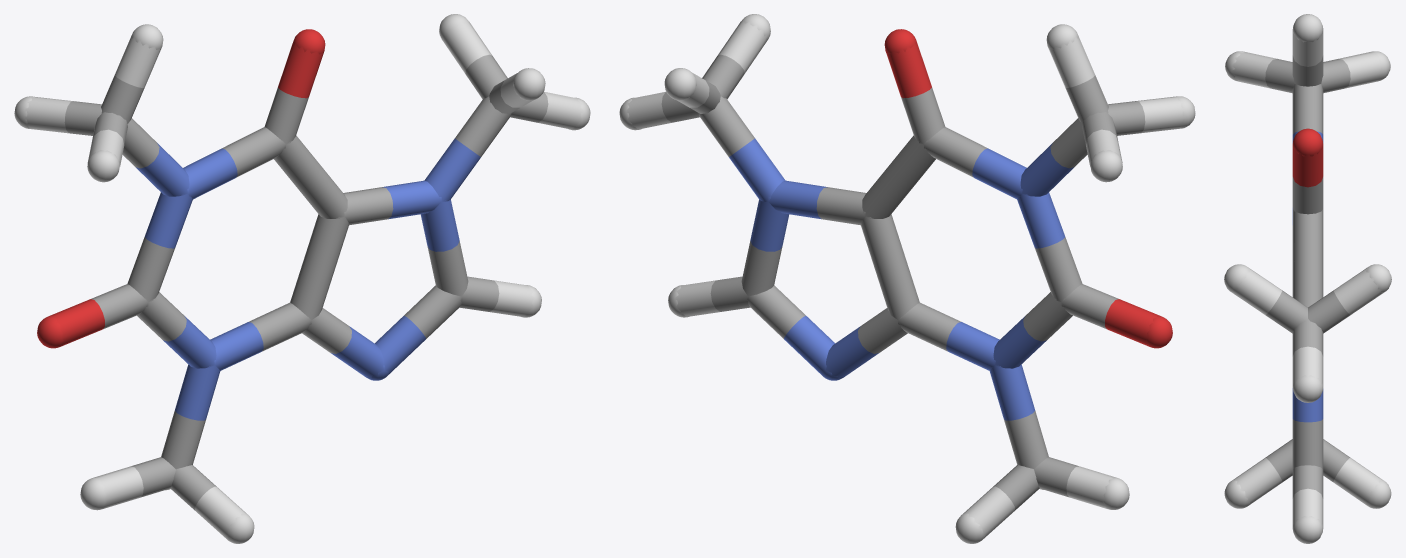
Rendered from caffeine-sticks.glb.
The picture shows the model from 3 angles, left to right: view 1: azimuth 30°, elevation 25°; view 2: azimuth 150°, elevation 25°; view 3: azimuth 270°, elevation 25°; orthographic projection. The views are drawn at different scales.
Visible parts, largest first — view 1: caffeine-sticks; view 2: caffeine-sticks; view 3: caffeine-sticks.
Part boxes in pixels (left/top/right/bottom): caffeine-sticks: left=14, top=14, right=590, bottom=543; caffeine-sticks: left=619, top=14, right=1195, bottom=543; caffeine-sticks: left=1224, top=14, right=1391, bottom=543.
Size of the model in its own units: 7.73 by 6.76 by 2.2.
